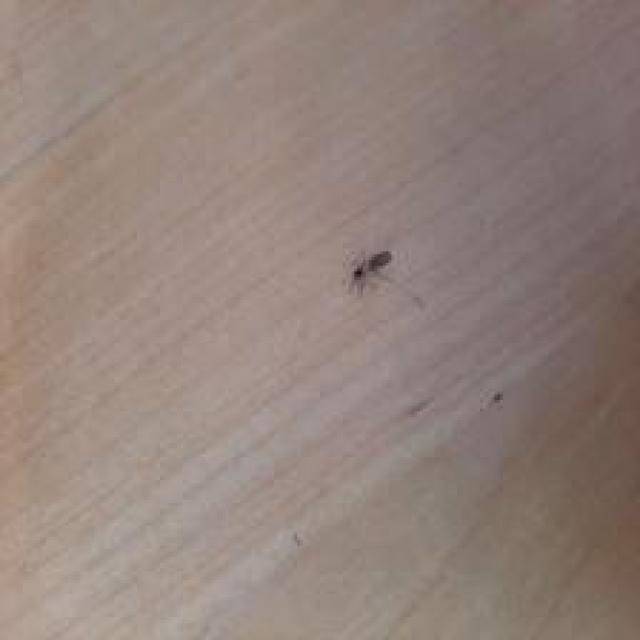Culex: (347, 249, 393, 294)
